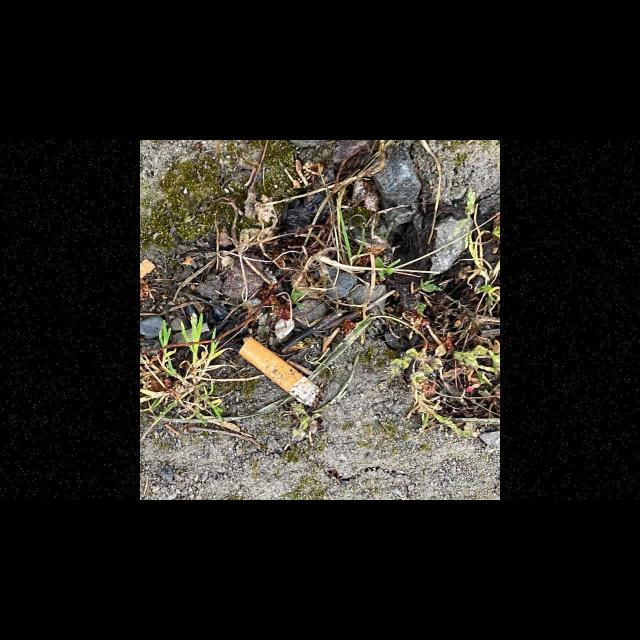cigarette: (238, 336, 321, 406)
